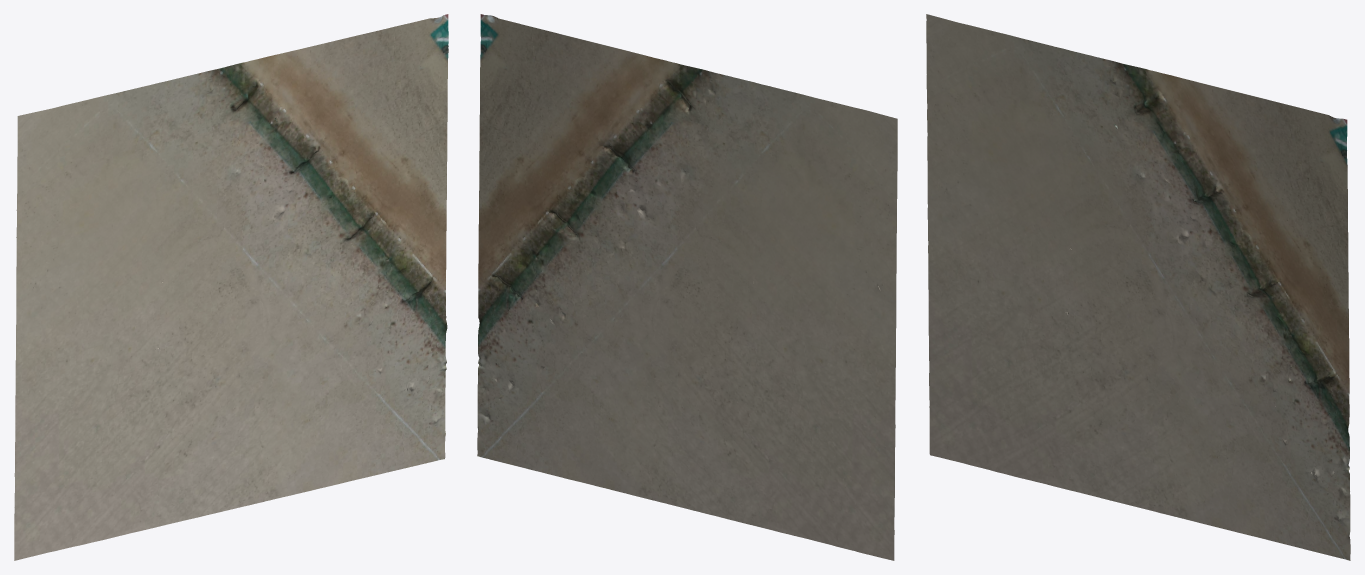
File: Tile_+022_+011.fbx
The picture shows the model from 3 angles, left to right: view 1: azimuth 30°, elevation 25°; view 2: azimuth 150°, elevation 25°; view 3: azimuth 330°, elevation 25°; orthographic projection.
Visible parts, largest first — view 1: DefaultName; view 2: DefaultName; view 3: DefaultName.
Boxes of the visible parts, x1=… form: DefaultName: x1=14, y1=14, x2=448, y2=560; DefaultName: x1=477, y1=14, x2=897, y2=560; DefaultName: x1=926, y1=14, x2=1350, y2=560.
Size of the model in its own units: 22.54 by 22.54 by 3.44.
